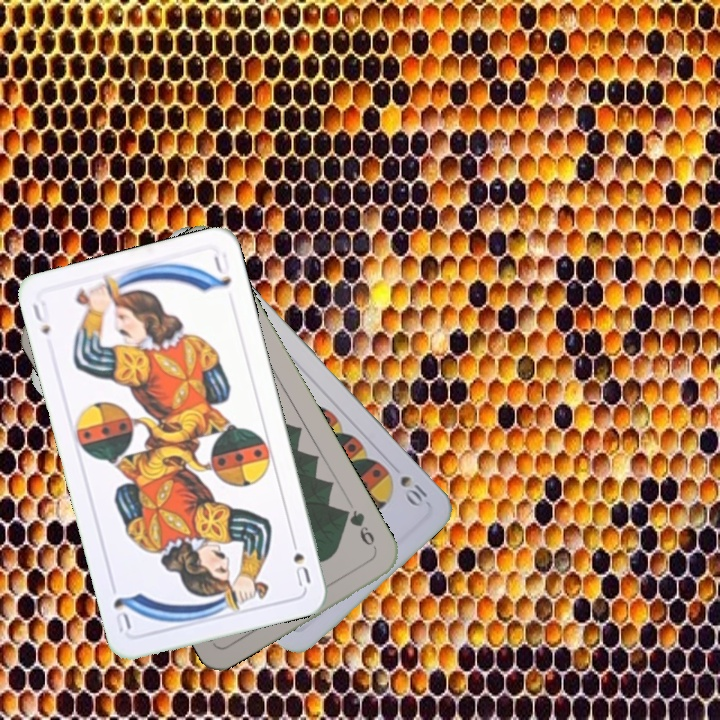G9: (338, 505, 380, 554)
S10: (396, 471, 430, 509)
SU: (286, 531, 314, 589), (28, 297, 53, 338)
